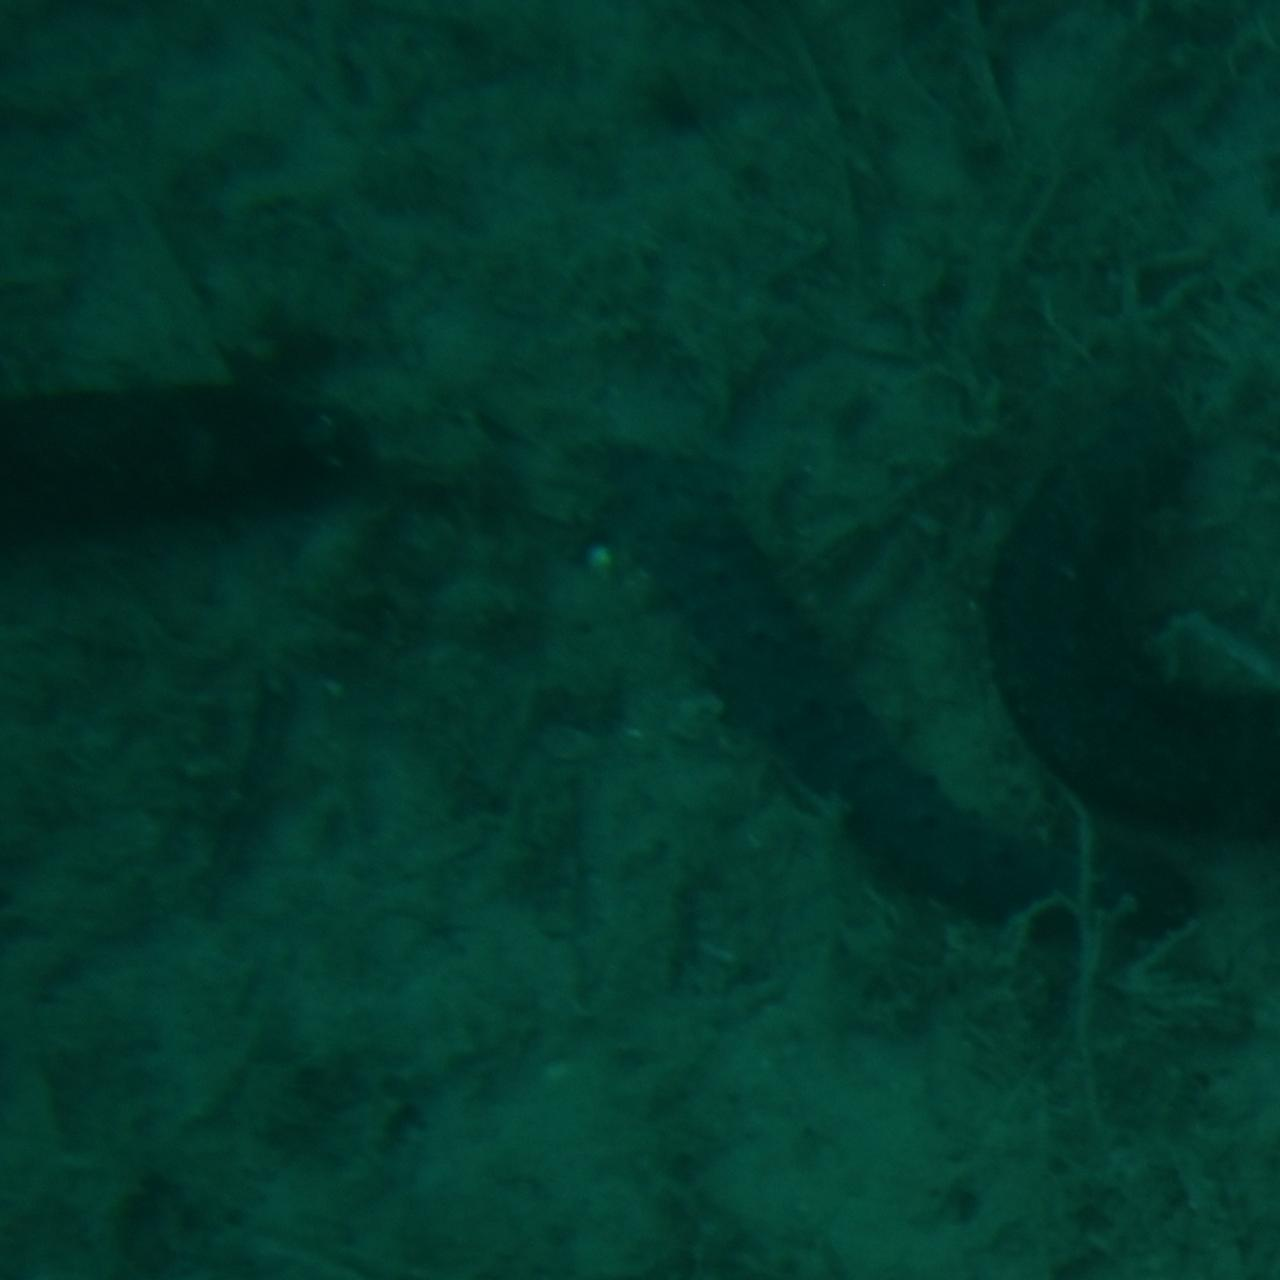Holothuria tubulosa: (598, 472, 1183, 927), (0, 377, 370, 783), (975, 435, 1280, 839)
